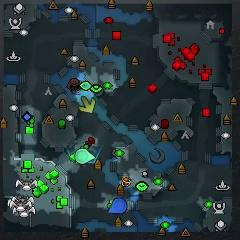p1: (108, 197, 127, 213)
p2: (75, 147, 97, 164)
x2: (79, 96, 96, 114)
